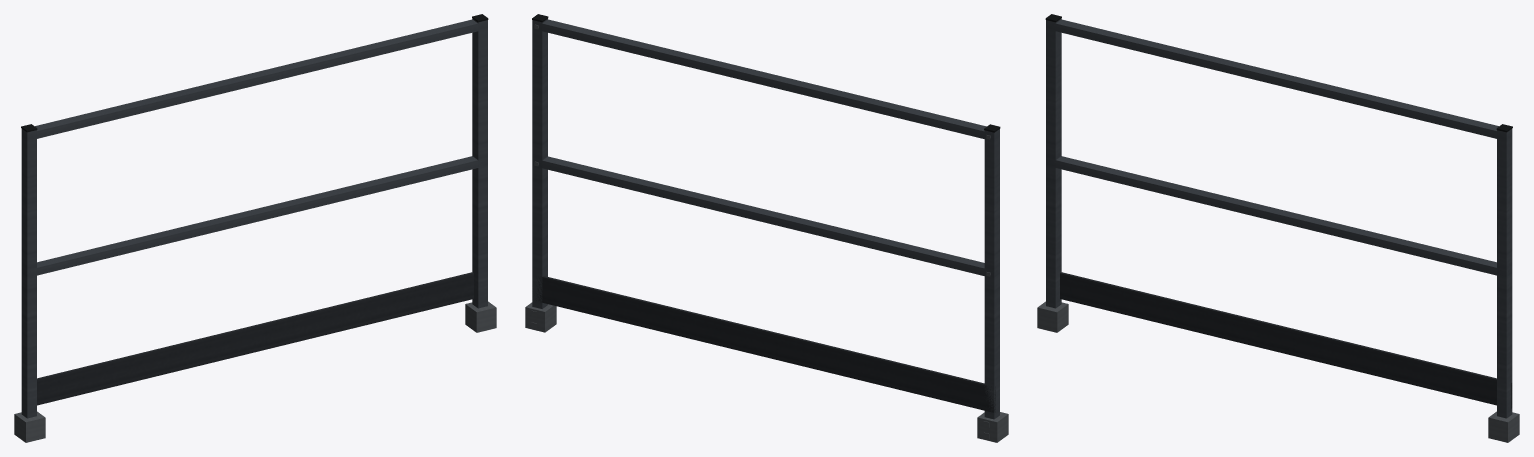
File: safety_railings_2m.obj
3 renders of one model, left to right at view 1: azimuth 30°, elevation 25°; view 2: azimuth 150°, elevation 25°; view 3: azimuth 330°, elevation 25°, orthographic.
Parts seen in each view (by area): view 1: part_157, part_127, part_151, part_142, part_118, part_73, part_19, part_3, part_57, part_160, part_109, part_115 (+2 smaller); view 2: part_156, part_120, part_144, part_142, part_118, part_66, part_12, part_3, part_57, part_160, part_108, part_132 (+6 smaller); view 3: part_157, part_151, part_127, part_142, part_118, part_73, part_19, part_62, part_8, part_160, part_115, part_133 (+2 smaller).
Boxes of the visible parts, <box> form: part_157: <box>37,273,473,405</box>; part_127: <box>27,160,487,276</box>; part_151: <box>28,23,481,140</box>; part_142: <box>35,19,477,130</box>; part_118: <box>37,156,477,267</box>; part_73: <box>479,20,487,308</box>; part_19: <box>28,130,36,418</box>; part_3: <box>21,129,27,418</box>; part_57: <box>472,18,478,308</box>; part_160: <box>37,272,473,379</box>; part_109: <box>27,166,483,277</box>; part_115: <box>28,159,482,270</box>; part_156: <box>532,277,994,412</box>; part_120: <box>533,160,994,277</box>; part_144: <box>532,24,994,140</box>; part_142: <box>542,19,986,131</box>; part_118: <box>542,156,984,268</box>; part_66: <box>533,20,541,308</box>; part_12: <box>985,130,993,419</box>; part_3: <box>994,129,999,419</box>; part_57: <box>542,18,547,308</box>; part_160: <box>542,276,984,384</box>; part_108: <box>542,167,993,278</box>; part_132: <box>538,30,992,141</box>; part_157: <box>1060,273,1496,405</box>; part_151: <box>1046,22,1505,139</box>; part_127: <box>1048,160,1505,276</box>; part_142: <box>1056,19,1498,130</box>; part_118: <box>1056,156,1496,267</box>; part_73: <box>1497,130,1505,418</box>; part_19: <box>1046,20,1054,308</box>; part_62: <box>1506,129,1512,418</box>; part_8: <box>1055,18,1061,308</box>; part_160: <box>1060,272,1496,379</box>; part_115: <box>1050,159,1505,270</box>; part_133: <box>1046,28,1505,140</box>.
Bounding box in the file's own units: 1.91 × 1.2 × 0.087.
2 materials, 2 textured.
